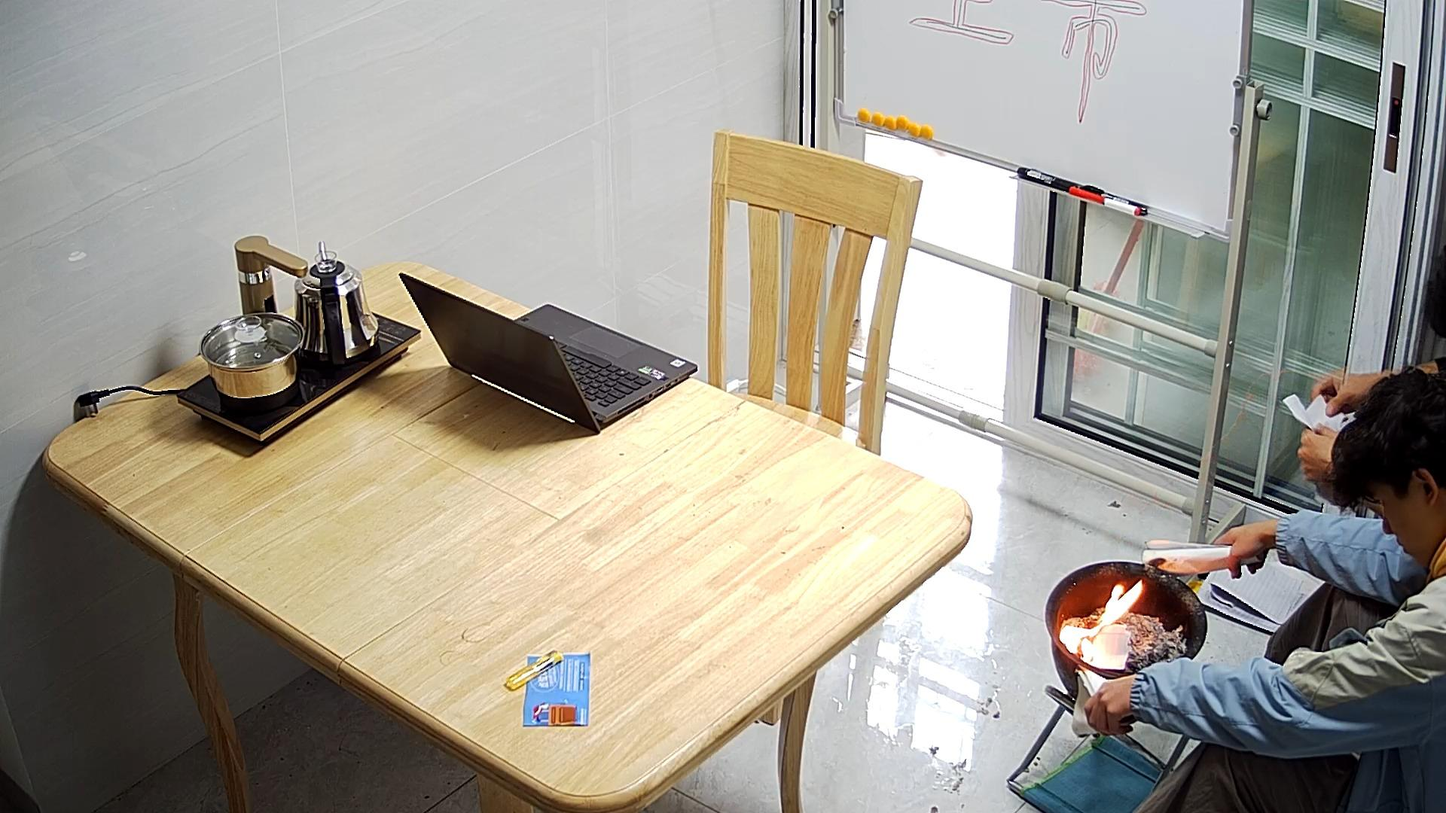fire: (1084, 583, 1142, 637), (1059, 626, 1095, 653)
